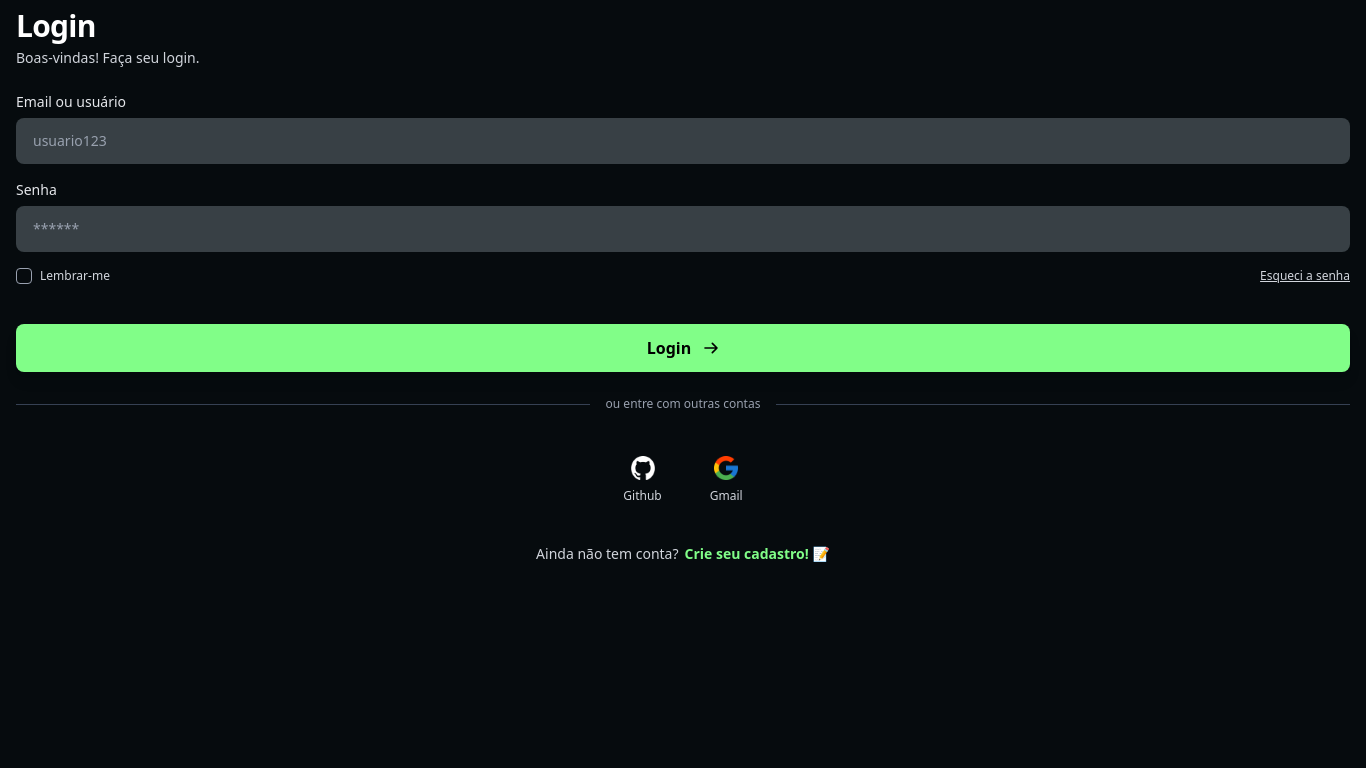
it: LoginForm Component › validates empty inputs on submission
What coordinates should you click on to do the following:
click the button "Login"
I would click on:
 (683, 348)
Its box is [16, 324, 1350, 372].
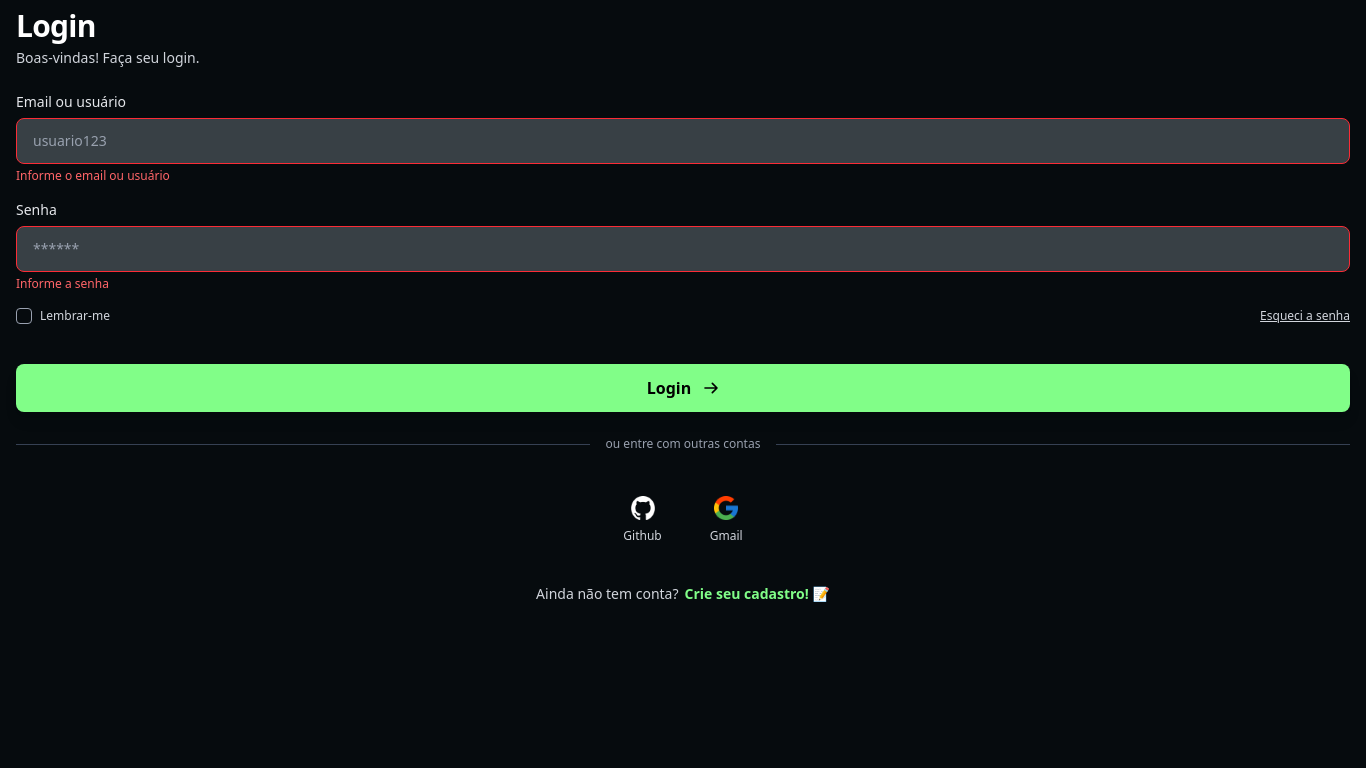
Now the text "Informe o email ou usuário" is shown, box [16, 167, 170, 184]
Now the text "Informe a senha" is shown, box [16, 275, 109, 292]
